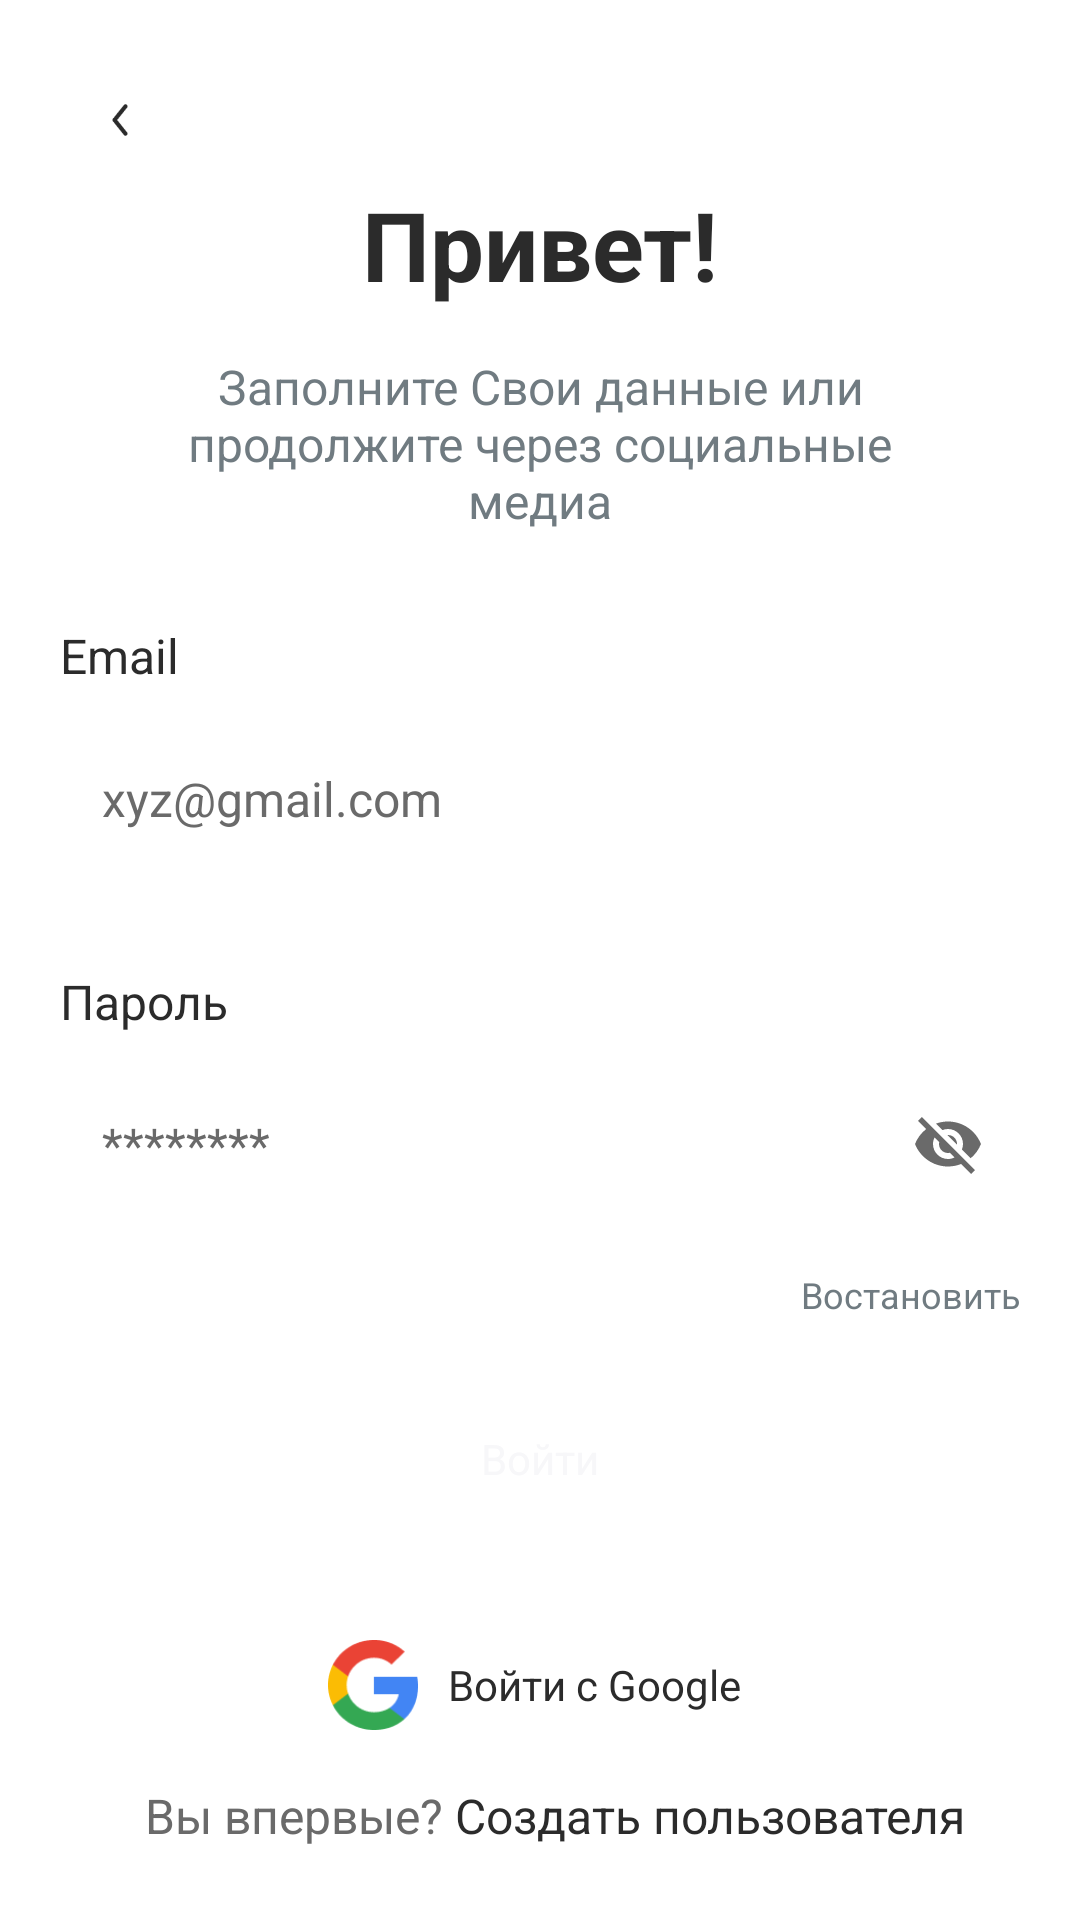

Screen size 1080px×1920px. Icon name, then its center in pixels as (x=x, y=y):
back: (x=120, y=120)
